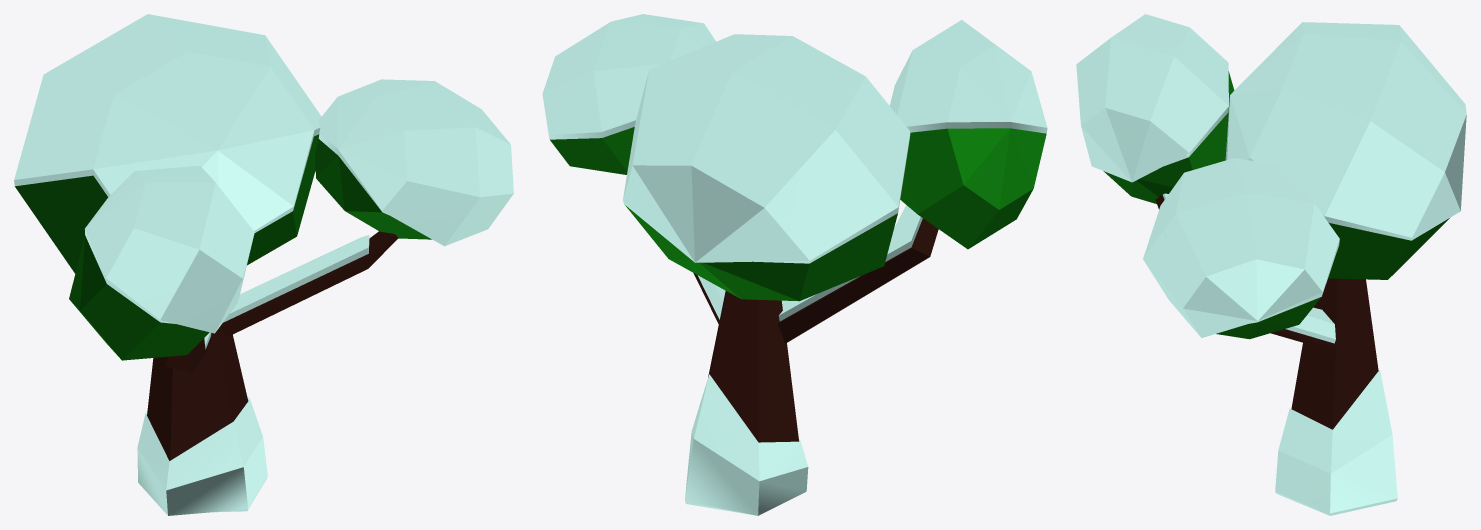
The model's file is Tree6.FBX.
3 renders of one model, left to right at view 1: azimuth 30°, elevation 25°; view 2: azimuth 150°, elevation 25°; view 3: azimuth 270°, elevation 25°, orthographic. The views are drawn at different scales.
Visible parts, largest first — view 1: Tree6_C, Tree6_d, Tree6_a; view 2: Tree6_C, Tree6_d, Tree6_a; view 3: Tree6_C, Tree6_a, Tree6_d.
Part boxes in pixels (x1,y1,x2,y2): Tree6_C: (14, 14, 513, 515); Tree6_d: (15, 134, 431, 360); Tree6_a: (147, 231, 398, 460); Tree6_C: (542, 14, 1047, 515); Tree6_d: (550, 127, 1046, 301); Tree6_a: (693, 218, 938, 442); Tree6_C: (1076, 14, 1466, 515); Tree6_a: (1155, 195, 1378, 429); Tree6_d: (1103, 71, 1449, 339).
Bounding box in the file's own units: 14868 × 14445 × 11596.
